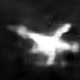plane: (8, 21, 79, 69)
